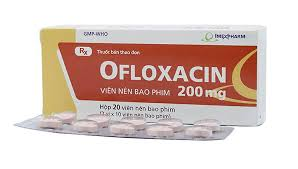Ofloxacin: (106, 64, 227, 79)
